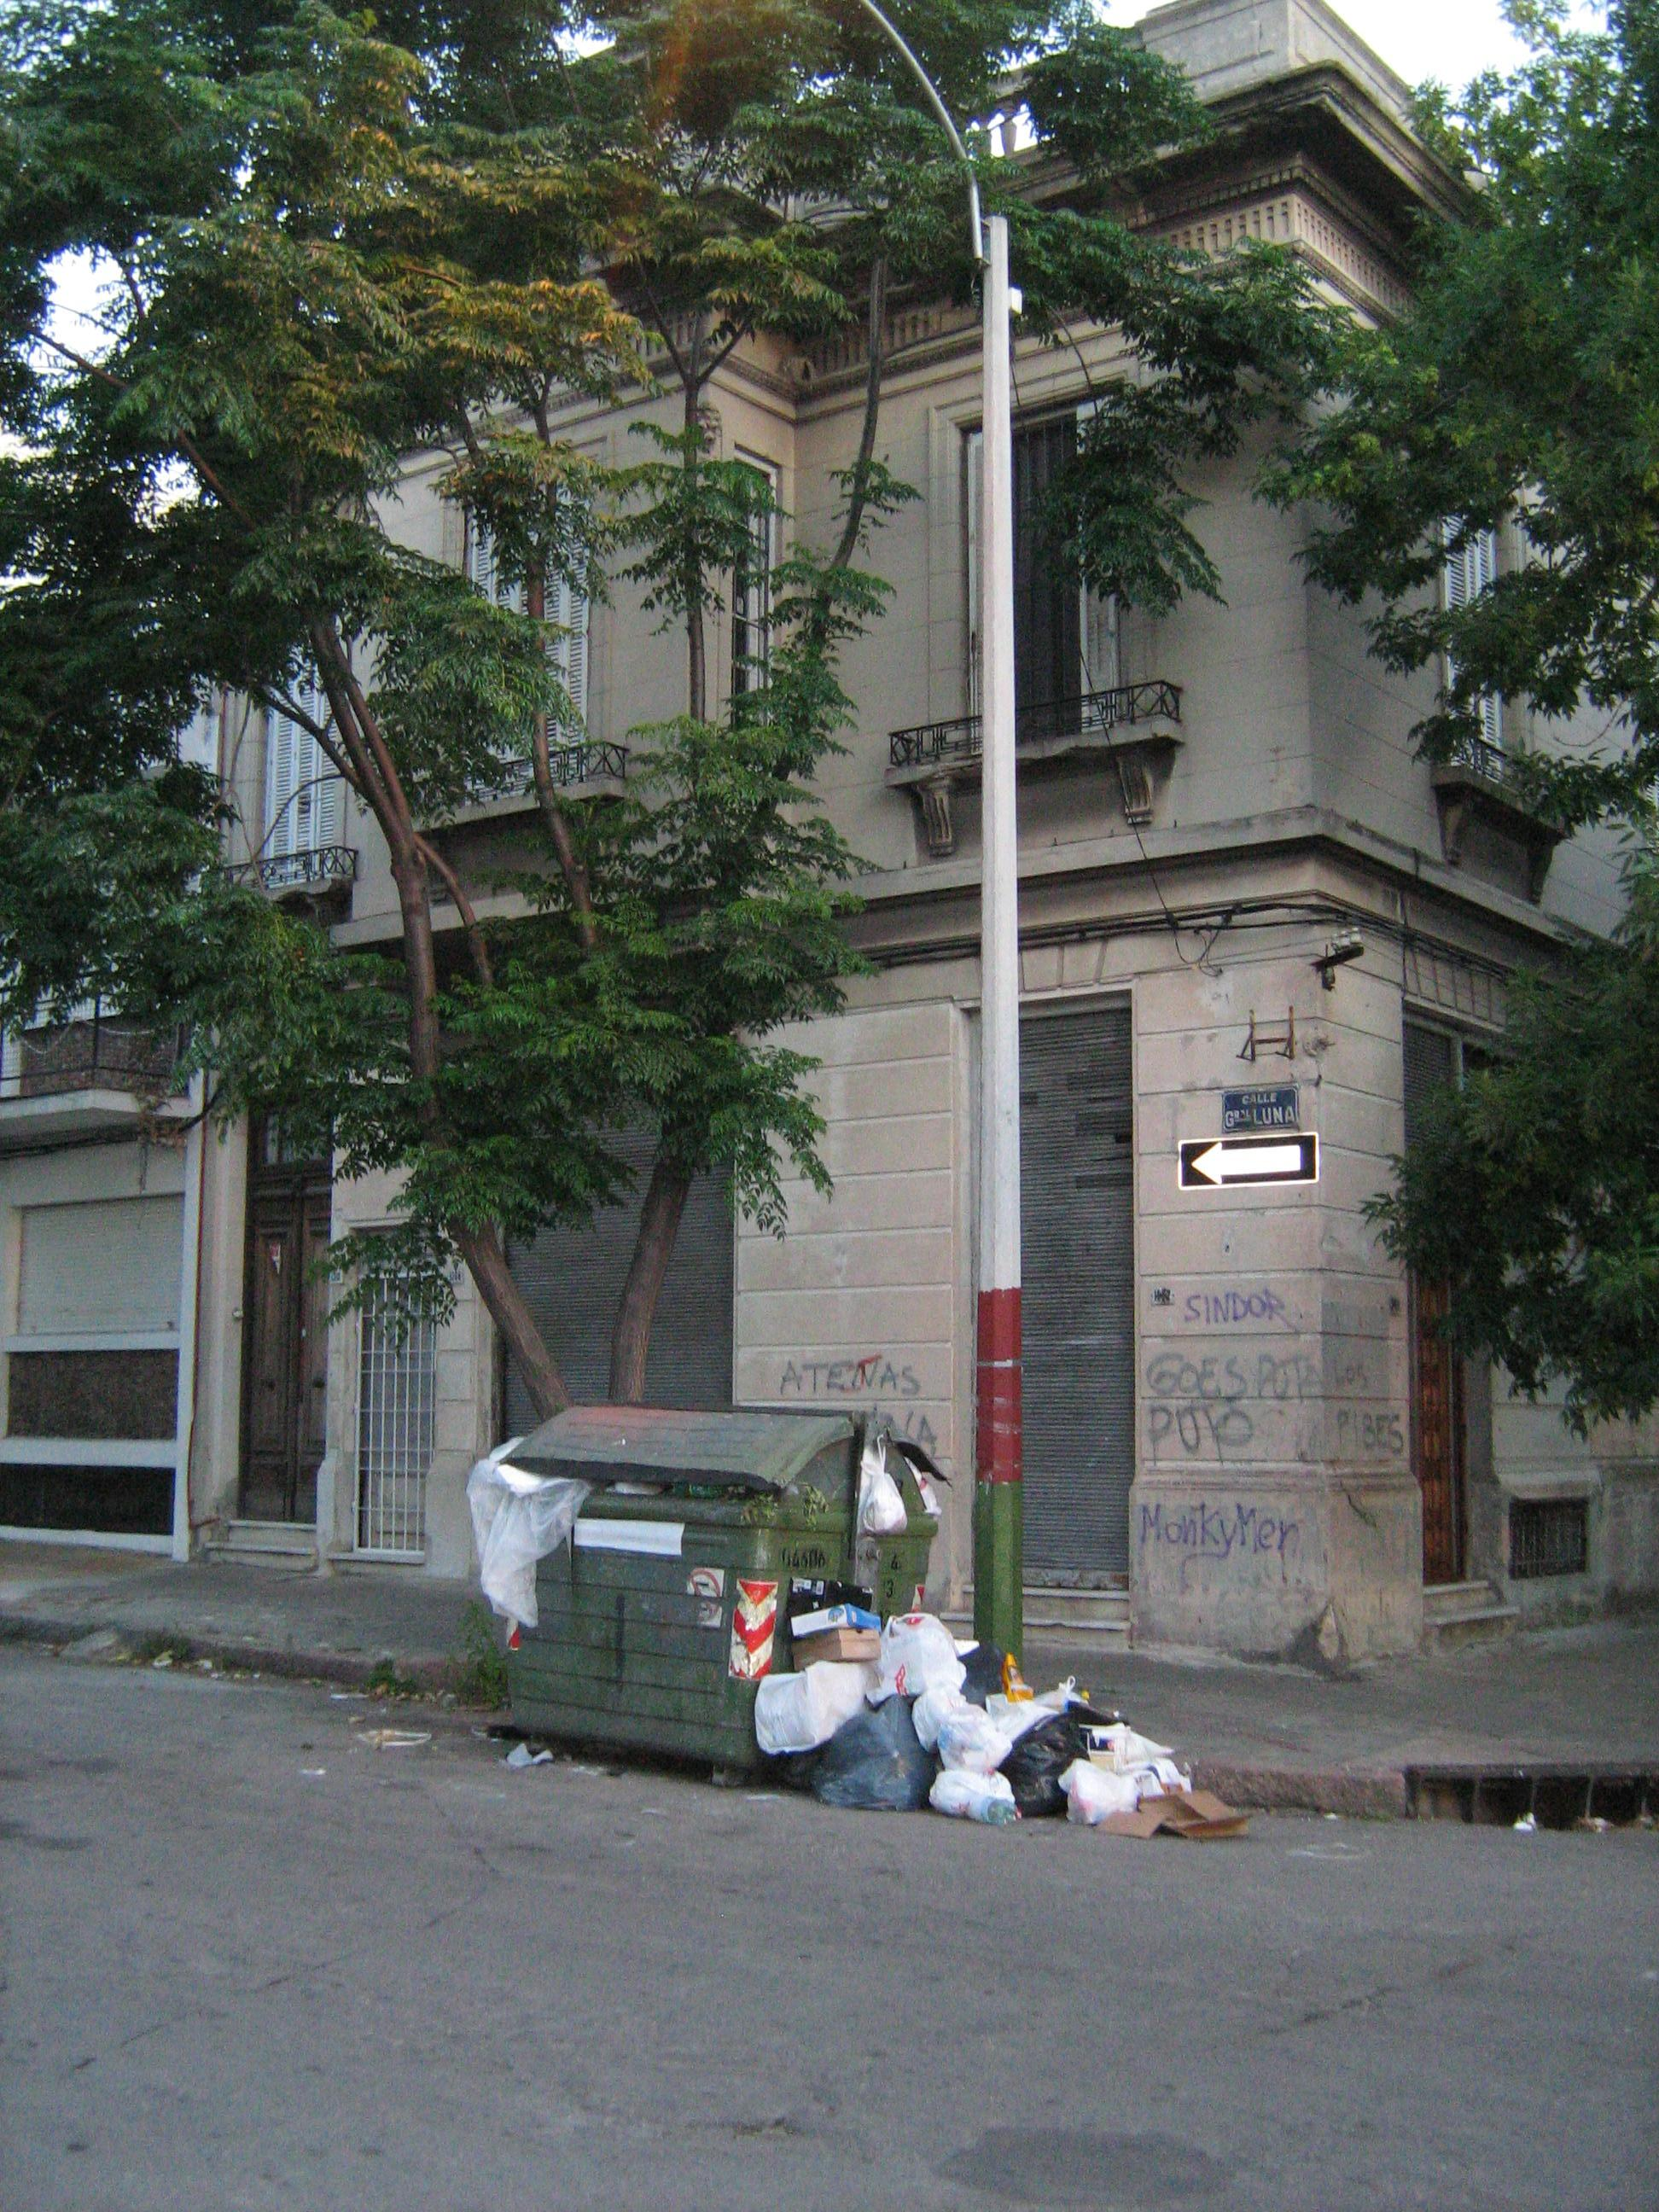Dechets: (753, 1580, 1265, 1864), (469, 1435, 599, 1639), (1002, 1700, 1133, 1818), (913, 1684, 1012, 1777), (1096, 1789, 1260, 1839), (927, 1770, 1023, 1818), (791, 1629, 882, 1670)
Trash: (479, 1402, 953, 1768)
